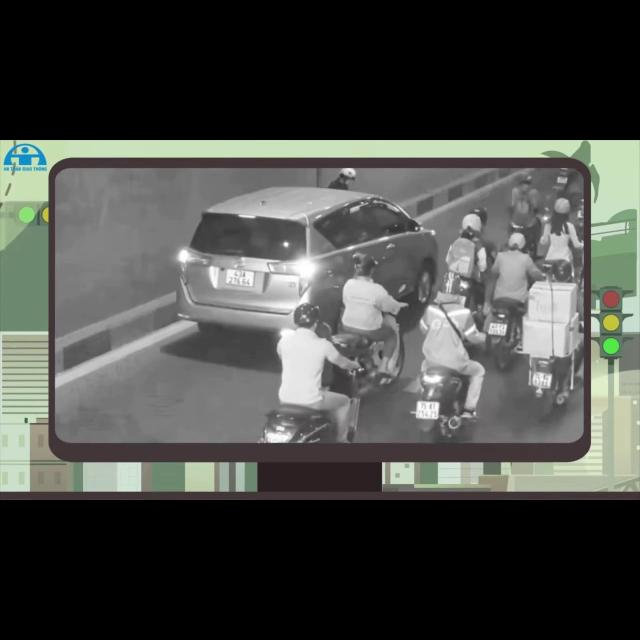car: (177, 187, 437, 331)
motorcycle: (317, 324, 404, 441), (331, 314, 404, 396), (529, 325, 583, 418), (410, 367, 469, 442), (411, 367, 468, 442), (529, 343, 583, 419), (258, 404, 337, 443), (259, 404, 337, 443), (487, 298, 526, 370), (508, 217, 542, 259), (458, 278, 484, 328), (553, 168, 583, 208), (542, 259, 576, 283)
